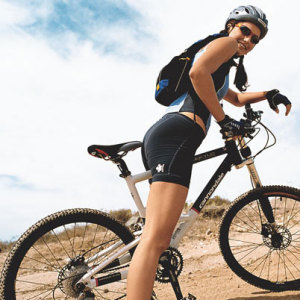helmet: (227, 2, 272, 29)
